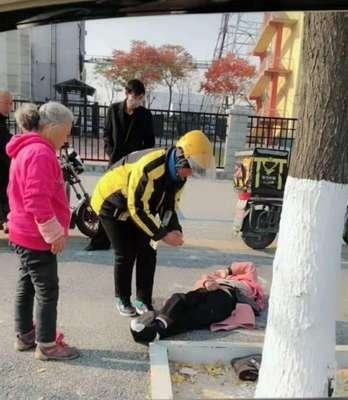falling: (128, 249, 267, 347)
